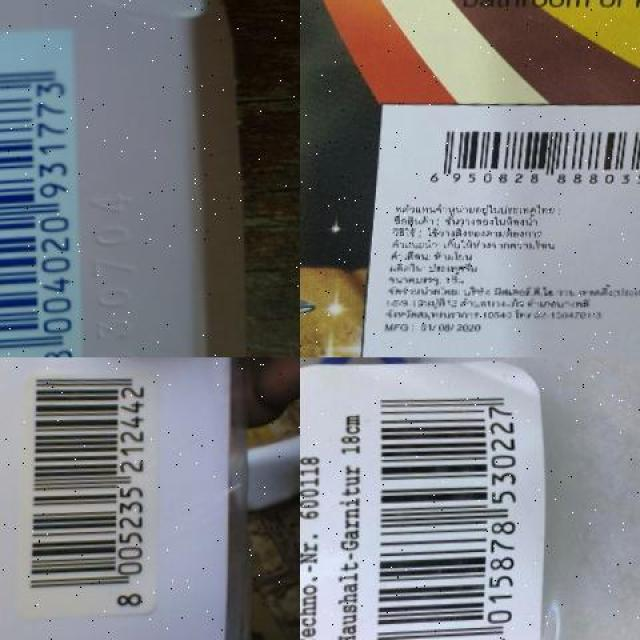Barcode: (299, 358, 545, 640), (24, 371, 153, 617), (0, 25, 92, 358), (413, 118, 640, 202)
